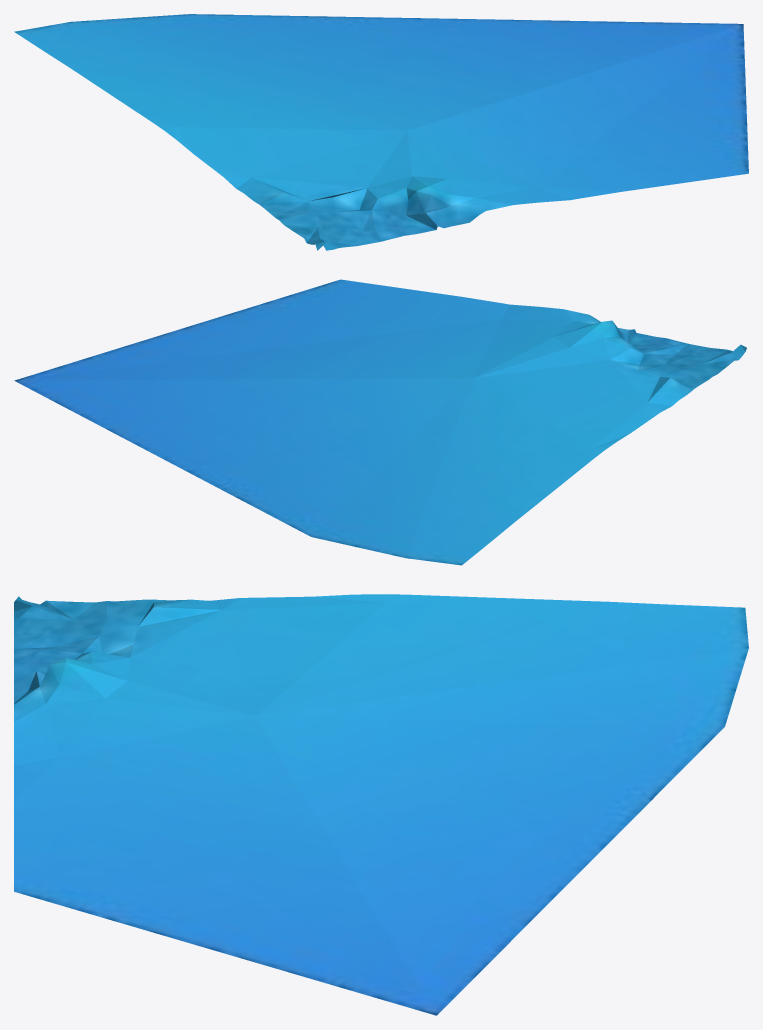
The picture shows the model from 3 angles, top to bottom: view 1: azimuth 30°, elevation 25°; view 2: azimuth 150°, elevation 25°; view 3: azimuth 270°, elevation 25°; orthographic projection. The views are drawn at different scales.
Bounding box in the file's own units: 7.73 × 0.7899 × 6.78.
Materials: 1 (1 with a texture image).
